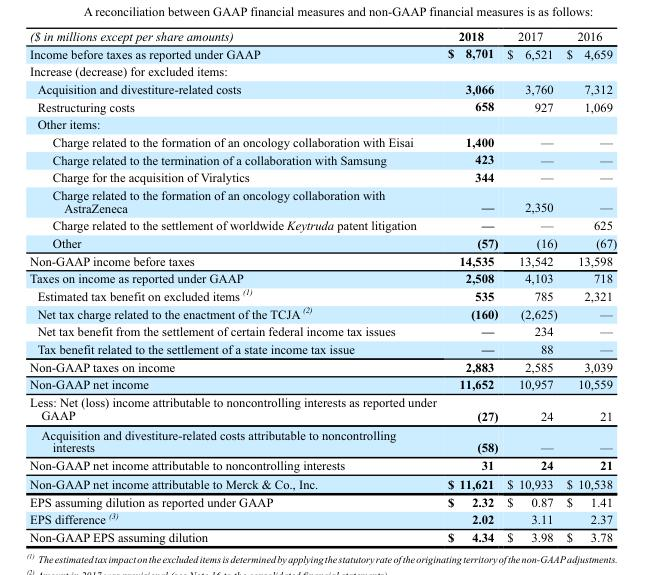table: (29, 28, 616, 543)
table column: (29, 28, 441, 543), (441, 28, 501, 543), (501, 28, 561, 543), (561, 28, 616, 543)
table column header: (29, 28, 616, 44)
table projected row header: (29, 62, 616, 79), (29, 115, 616, 132)
table row: (29, 392, 616, 424), (29, 185, 616, 216), (29, 424, 616, 455), (29, 303, 616, 322), (29, 455, 616, 474), (29, 44, 616, 62), (29, 79, 616, 97), (29, 97, 616, 115), (29, 132, 616, 150), (29, 150, 616, 168), (29, 233, 616, 251), (29, 251, 616, 269), (29, 285, 616, 303), (29, 339, 616, 357), (29, 357, 616, 375), (29, 474, 616, 492), (29, 509, 616, 527), (29, 62, 616, 79), (29, 115, 616, 132), (29, 168, 616, 185), (29, 216, 616, 233), (29, 322, 616, 339), (29, 375, 616, 392), (29, 492, 616, 509), (29, 28, 616, 44), (29, 269, 616, 285), (29, 527, 616, 543)
